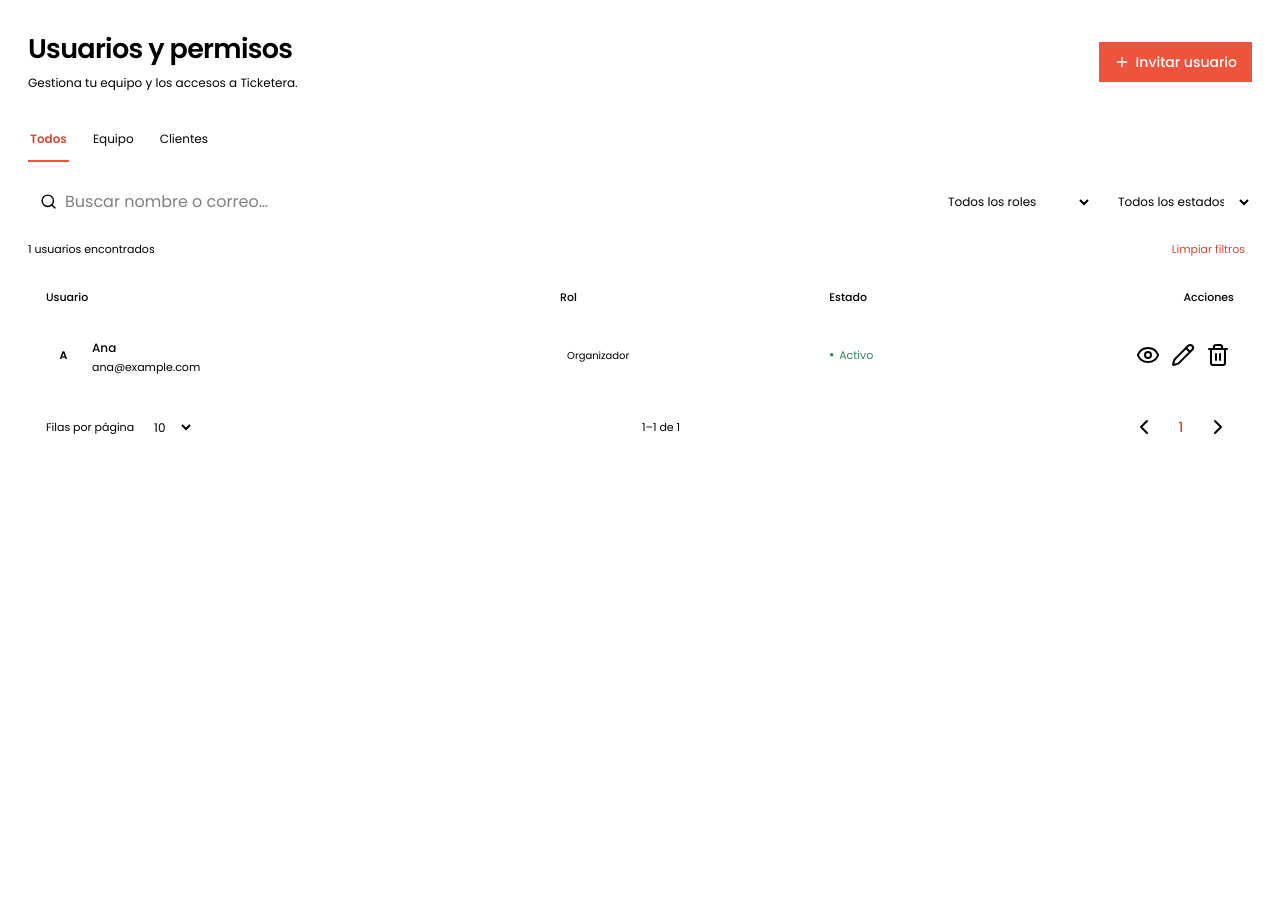
Scenario: requires confirmation before deletion and retains the form on API failure
Click the button named "Eliminar Ana" at (1218, 355), box [1202,339,1234,371]
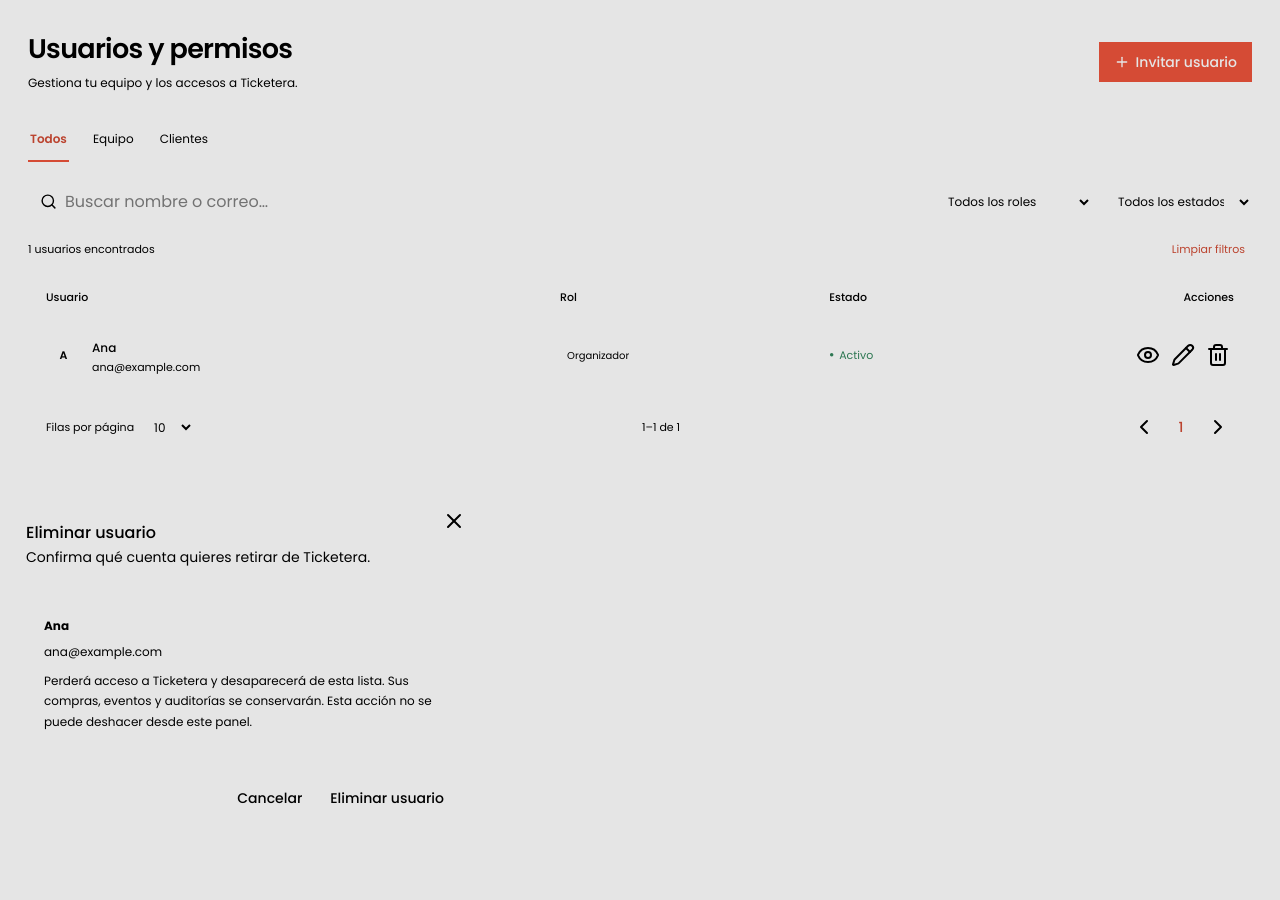
Click the button "Eliminar usuario" at (387, 798), box [320,778,454,818]
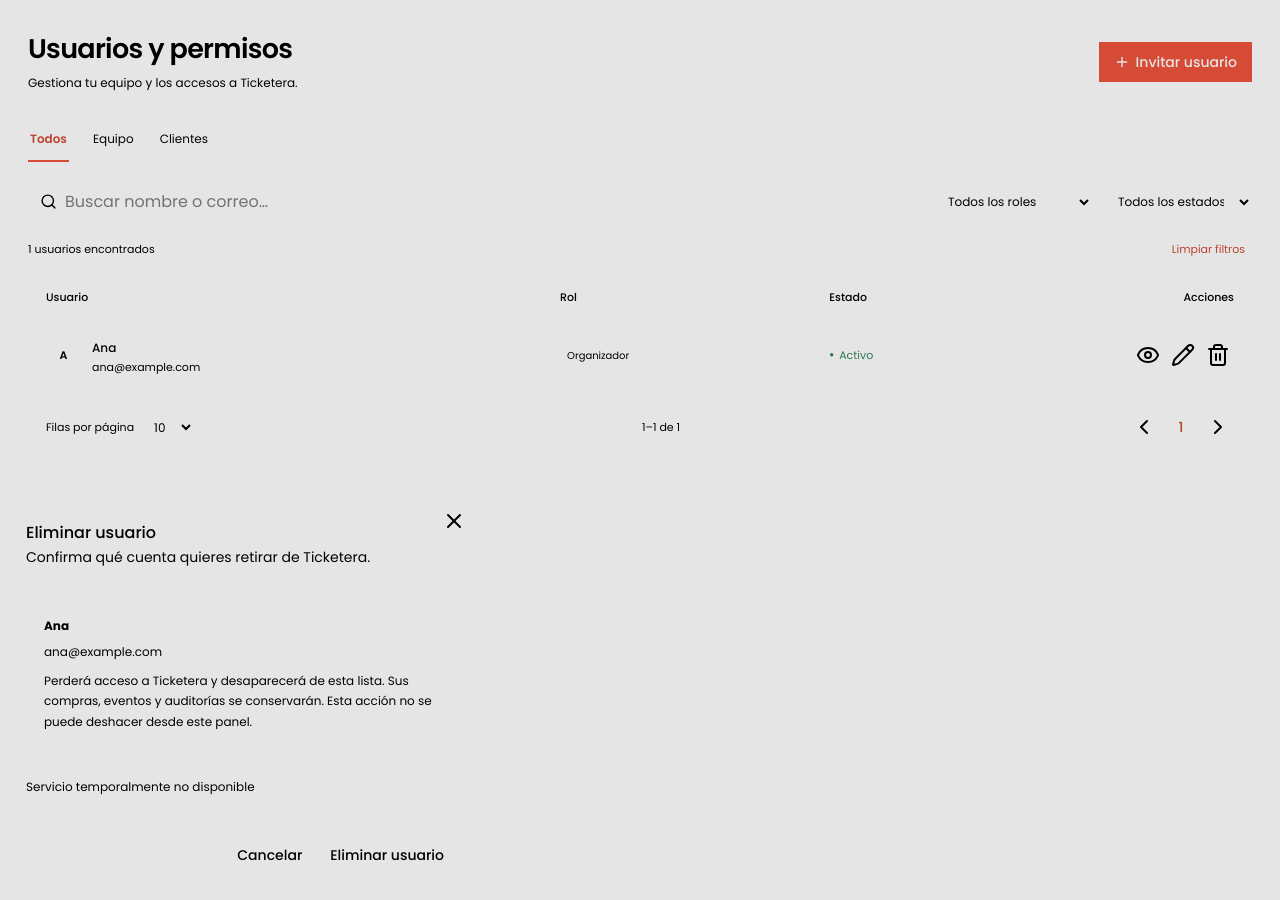
Now the message shows "Servicio temporalmente", box [26,778,255,795]
